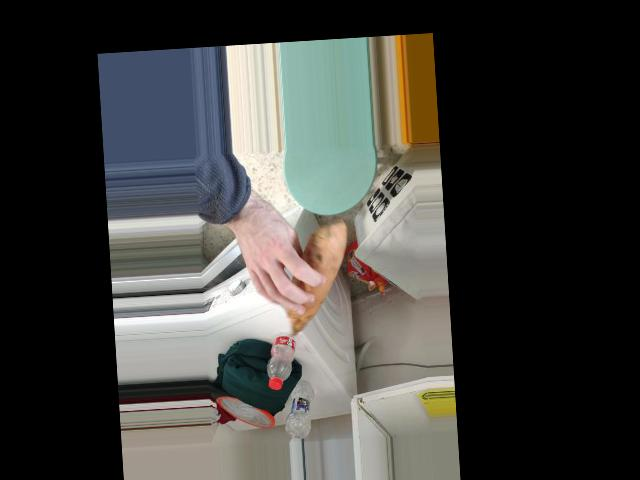sweet_potato: (264, 240, 350, 330)
